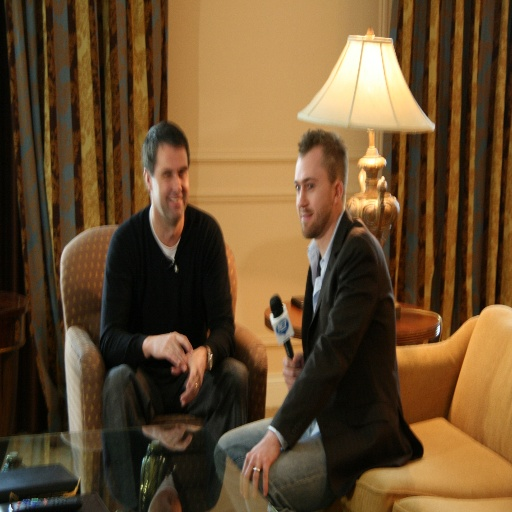hand: (235, 418, 286, 502), (170, 345, 207, 405), (151, 332, 193, 369), (282, 351, 305, 392)
